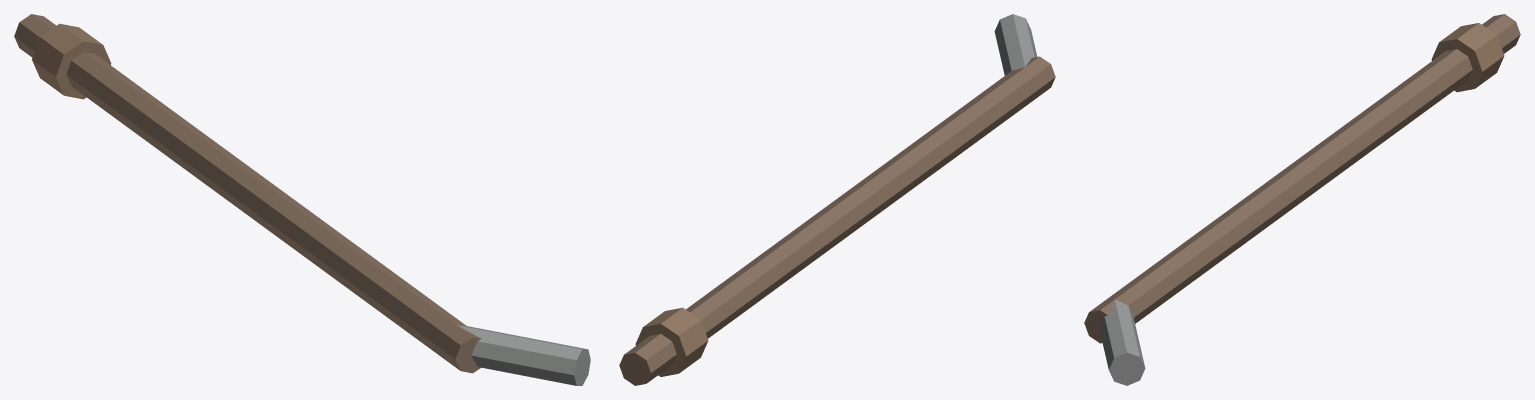
The model's file is boat_hook.glb.
3 renders of one model, left to right at view 1: azimuth 30°, elevation 25°; view 2: azimuth 150°, elevation 25°; view 3: azimuth 330°, elevation 25°, orthographic. The views are drawn at different scales.
Parts seen in each view (by area): view 1: boat_hook_wood_shaft, boat_hook_metal_tip, boat_hook_grip; view 2: boat_hook_wood_shaft, boat_hook_grip, boat_hook_metal_tip; view 3: boat_hook_wood_shaft, boat_hook_metal_tip, boat_hook_grip.
Boxes of the visible parts, x1,y1,x2,y2 form: boat_hook_wood_shaft: (14,14,481,373); boat_hook_metal_tip: (457,325,590,385); boat_hook_grip: (32,23,111,99); boat_hook_wood_shaft: (619,56,1055,385); boat_hook_grip: (635,307,708,376); boat_hook_metal_tip: (994,14,1037,75); boat_hook_wood_shaft: (1084,14,1520,343); boat_hook_metal_tip: (1099,299,1145,385); boat_hook_grip: (1431,23,1504,92).
Size of the model in its own units: 0.1603 by 0.08 by 1.21.
